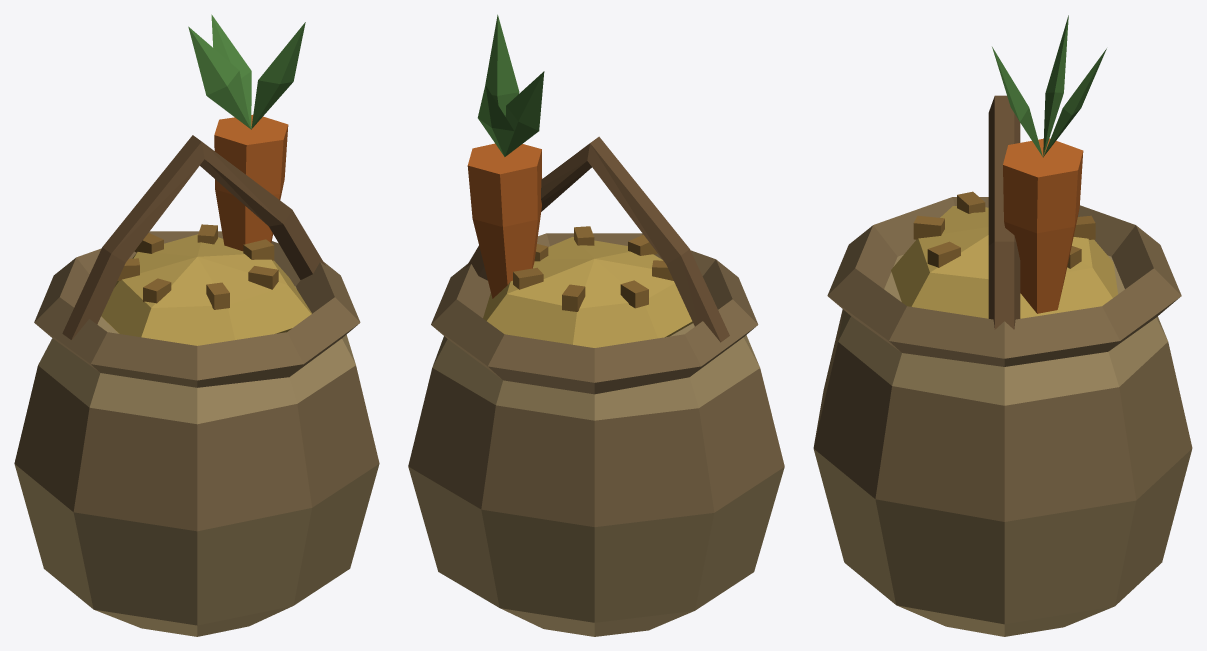
The model's file is held_feed_bag.glb.
3 renders of one model, left to right at view 1: azimuth 30°, elevation 25°; view 2: azimuth 150°, elevation 25°; view 3: azimuth 270°, elevation 25°, orthographic. The views are drawn at different scales.
Visible parts, largest first — view 1: held_feed_bag; view 2: held_feed_bag; view 3: held_feed_bag.
Part boxes in pixels (x1,y1,x2,y2): held_feed_bag: [14, 14, 379, 636]; held_feed_bag: [408, 14, 784, 636]; held_feed_bag: [813, 15, 1192, 636].
Bounding box in the file's own units: 0.393 × 0.65 × 0.3685.
